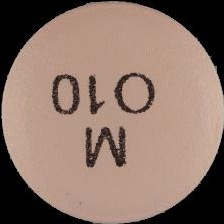51079-723: (0, 0, 224, 224)
